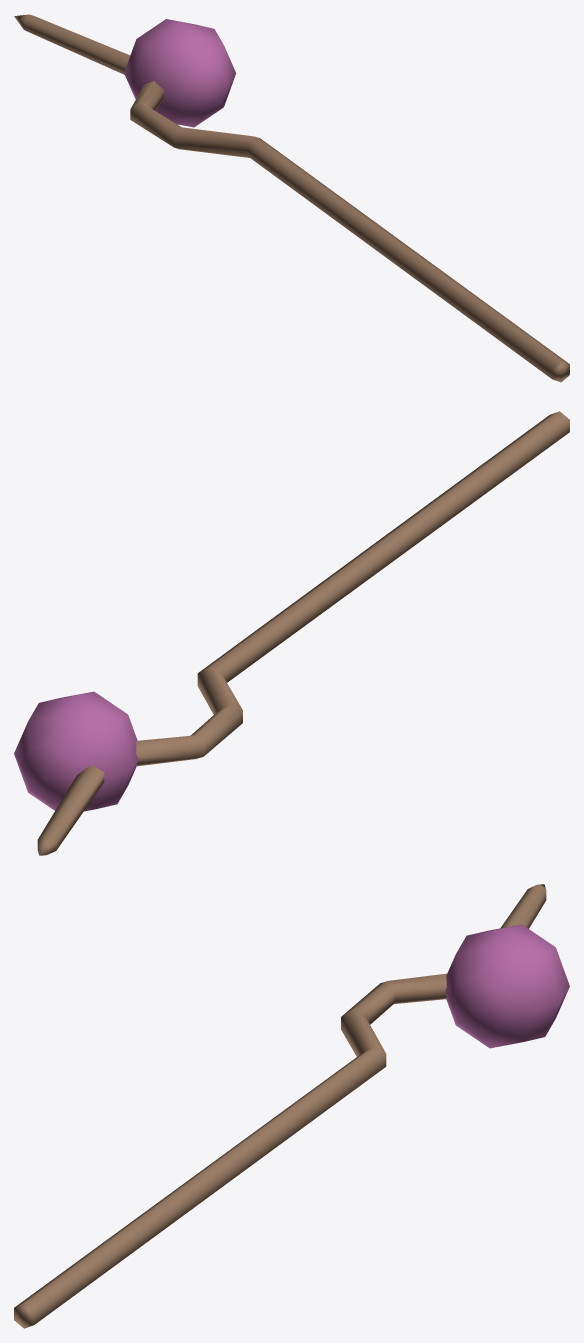
The model's file is elder_staff.glb.
3 renders of one model, top to bottom at view 1: azimuth 30°, elevation 25°; view 2: azimuth 150°, elevation 25°; view 3: azimuth 330°, elevation 25°, orthographic. The views are drawn at different scales.
Parts seen in each view (by area): view 1: elder_staff; view 2: elder_staff; view 3: elder_staff.
Part boxes in pixels (box(x1,y1,x2,y2)): elder_staff: box(14, 14, 569, 382); elder_staff: box(14, 411, 569, 855); elder_staff: box(14, 884, 569, 1328).
Bounding box in the file's own units: 0.2588 × 0.1959 × 1.75.
